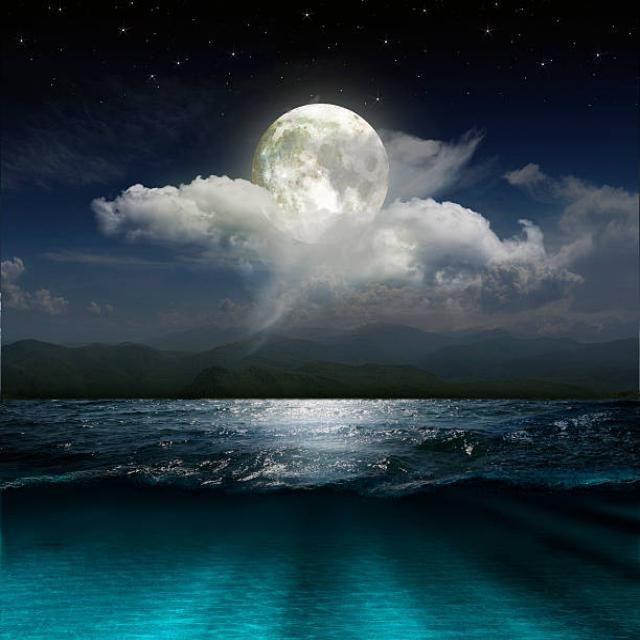moon: (234, 94, 392, 250)
